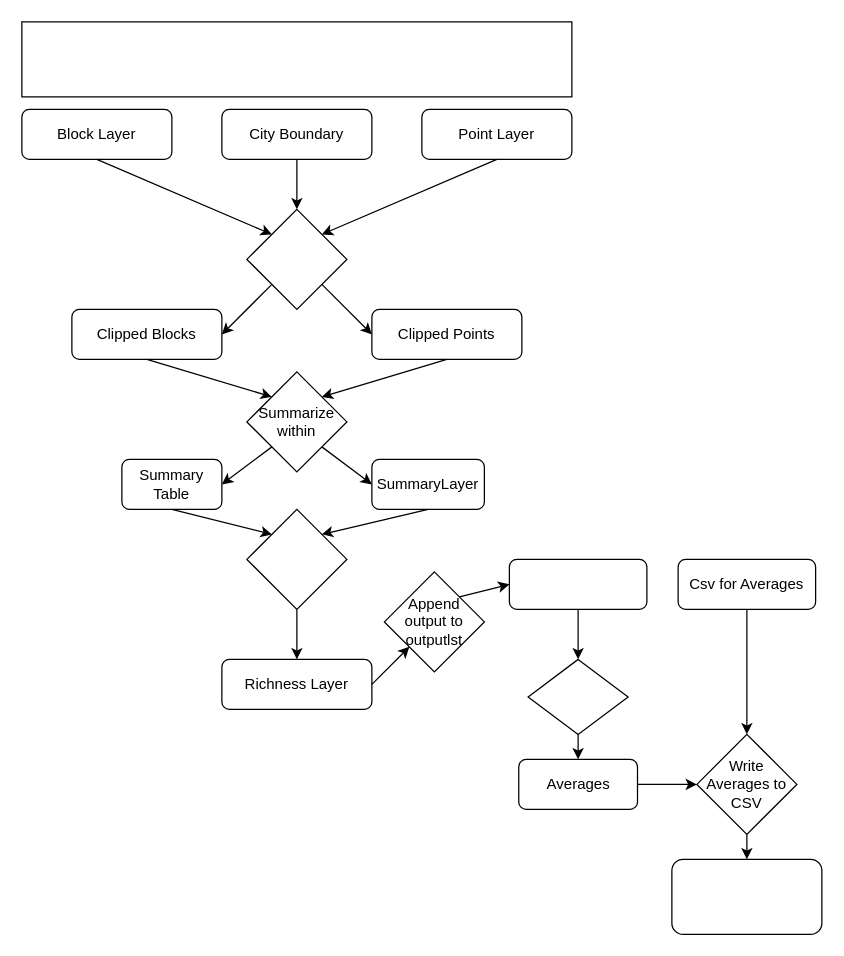
Image size: 844x956. Some labels were removed from this diagram. The shapes that lost their labels are listed below. From the top down, each one's centre as x and y in pixels, then its label:
[296,59]: For Every City in City Layer
[296,258]: Clip by City
[296,558]: Calculate Richness
[577,583]: outputlist
[577,696]: Calculate Averages
[746,896]: Averages CSV
